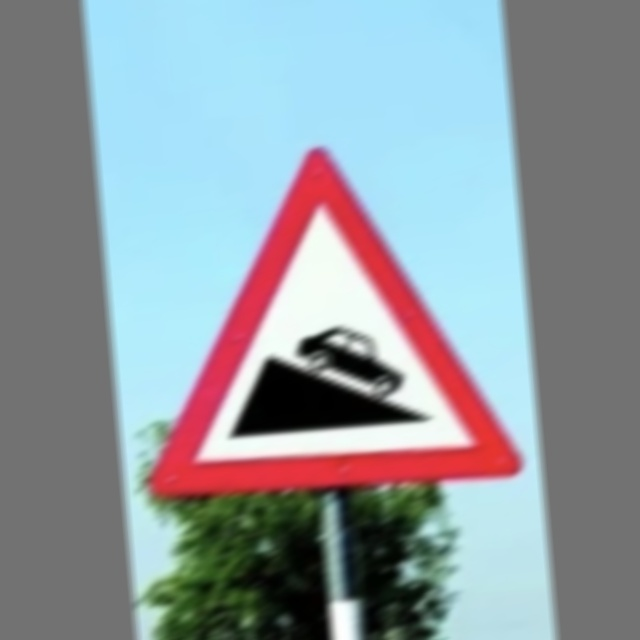Steep_Descent: (135, 139, 508, 509)
